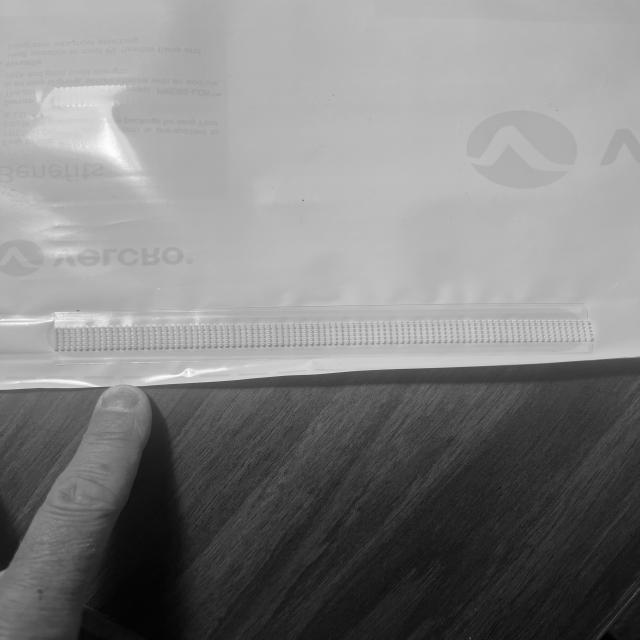zip_s: (54, 301, 596, 366)
